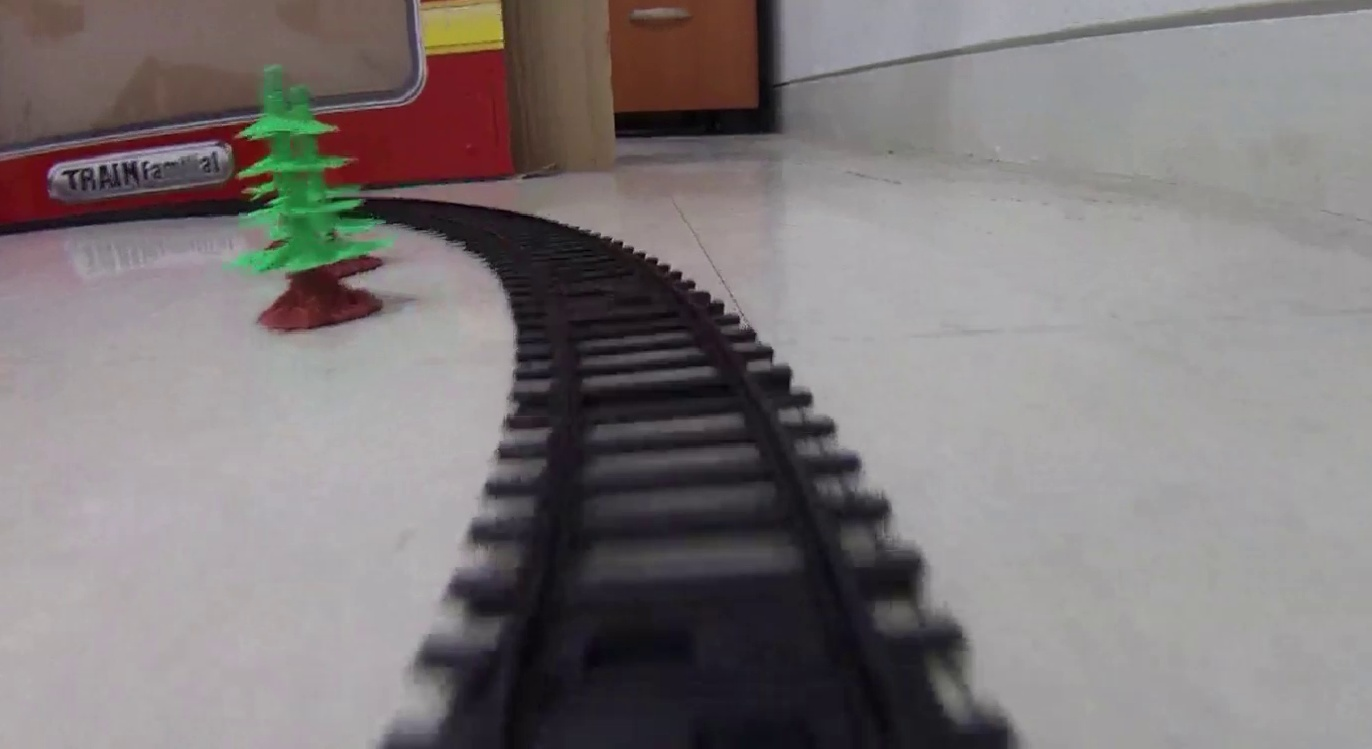tree: (252, 68, 391, 332)
